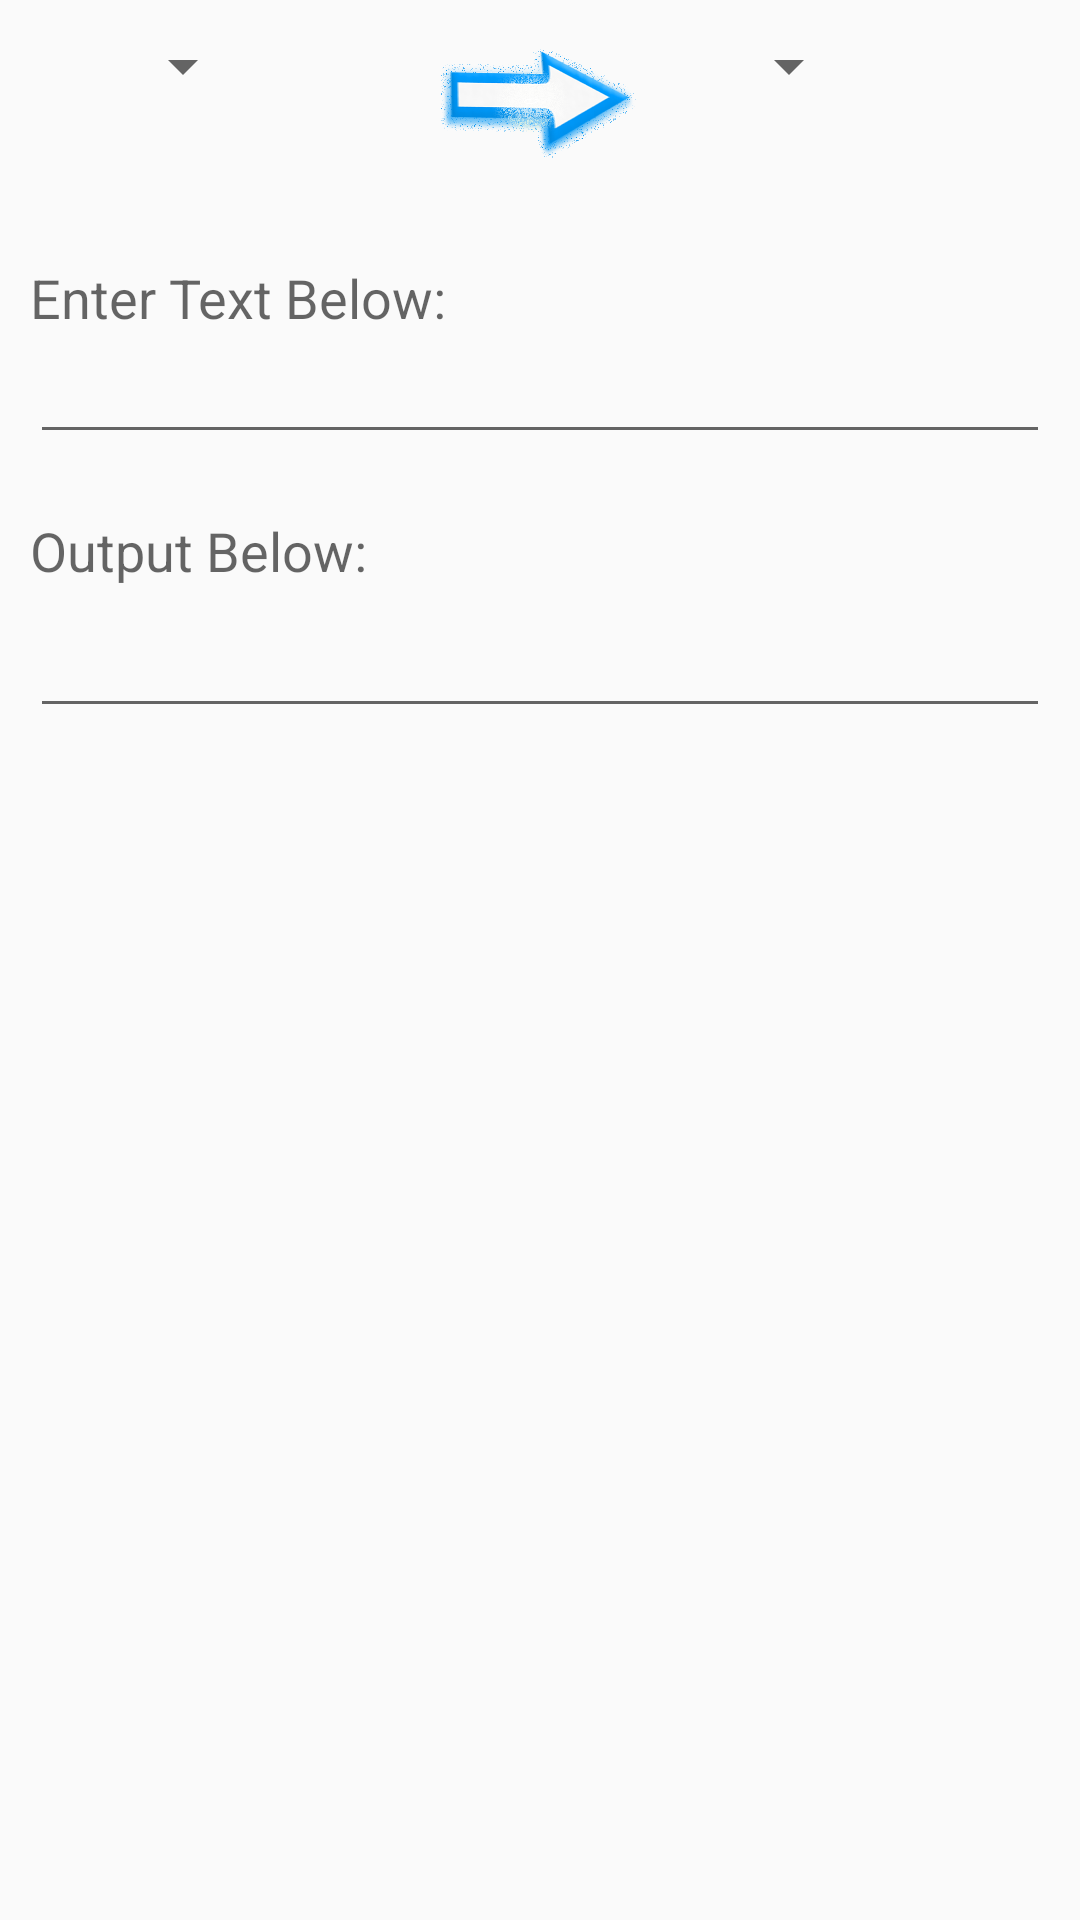

Where to tap for icons on this 1080x1920 app screen, as (x=x, y=y):
arrow: (x=538, y=103)
